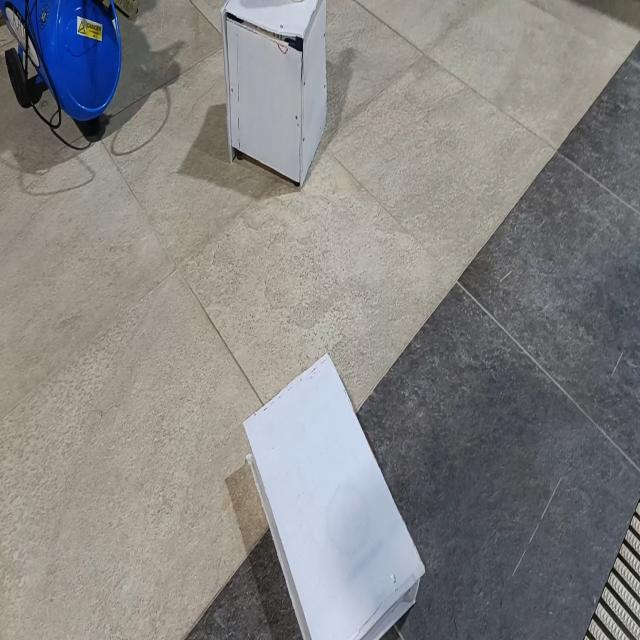Cube: (220, 0, 328, 190)
Cuboid: (242, 350, 425, 638)
